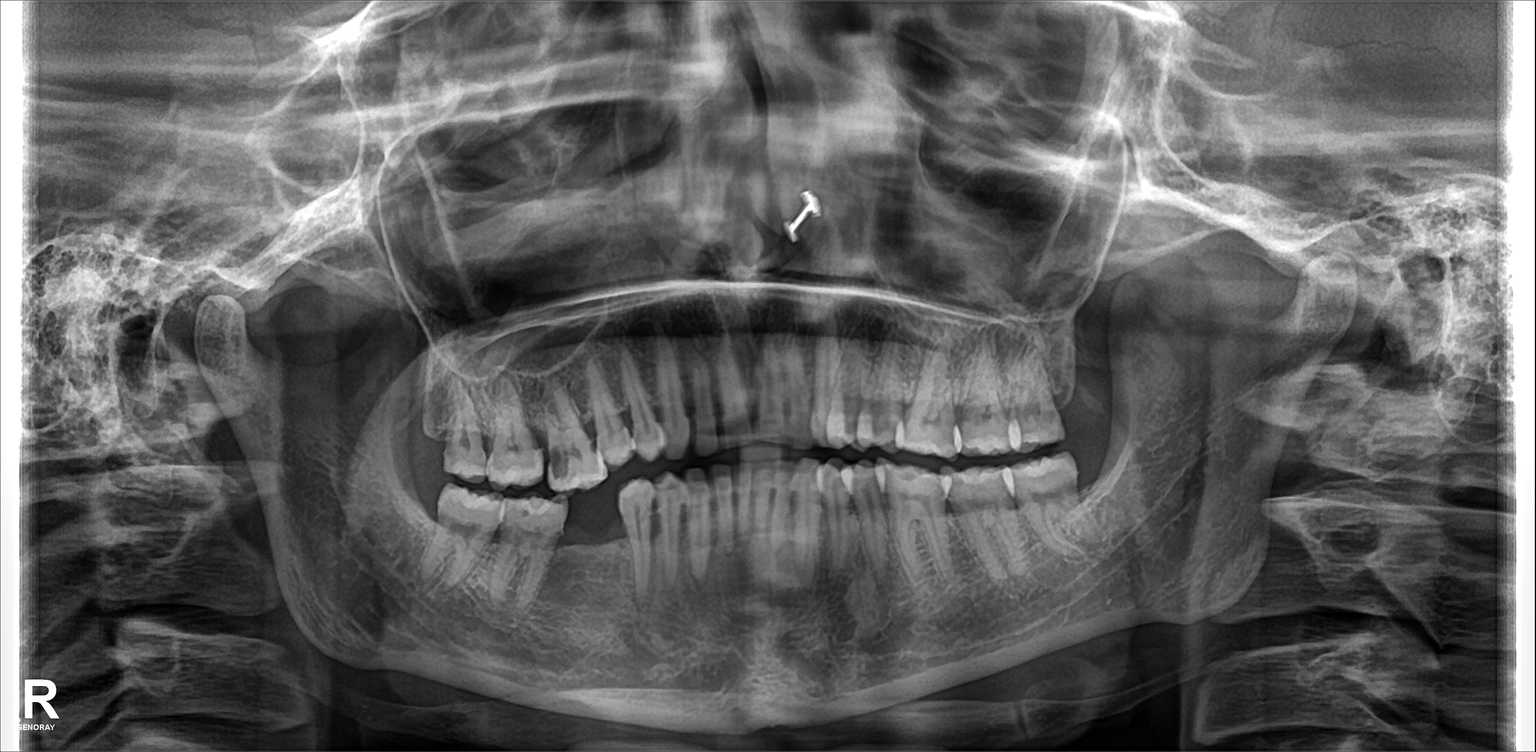Dental Caries: (546, 443, 581, 481)
Missing Tooth: (1054, 324, 1104, 417), (568, 503, 618, 588), (410, 369, 454, 465), (1071, 441, 1119, 508)
